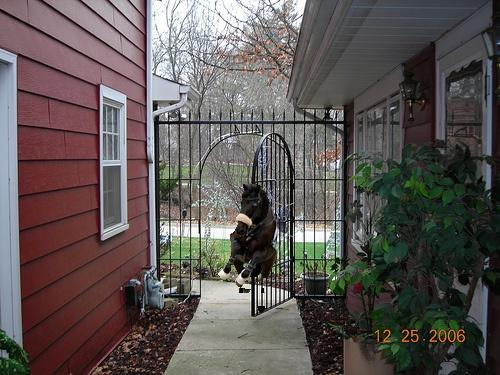tampered: (219, 184, 277, 313)
